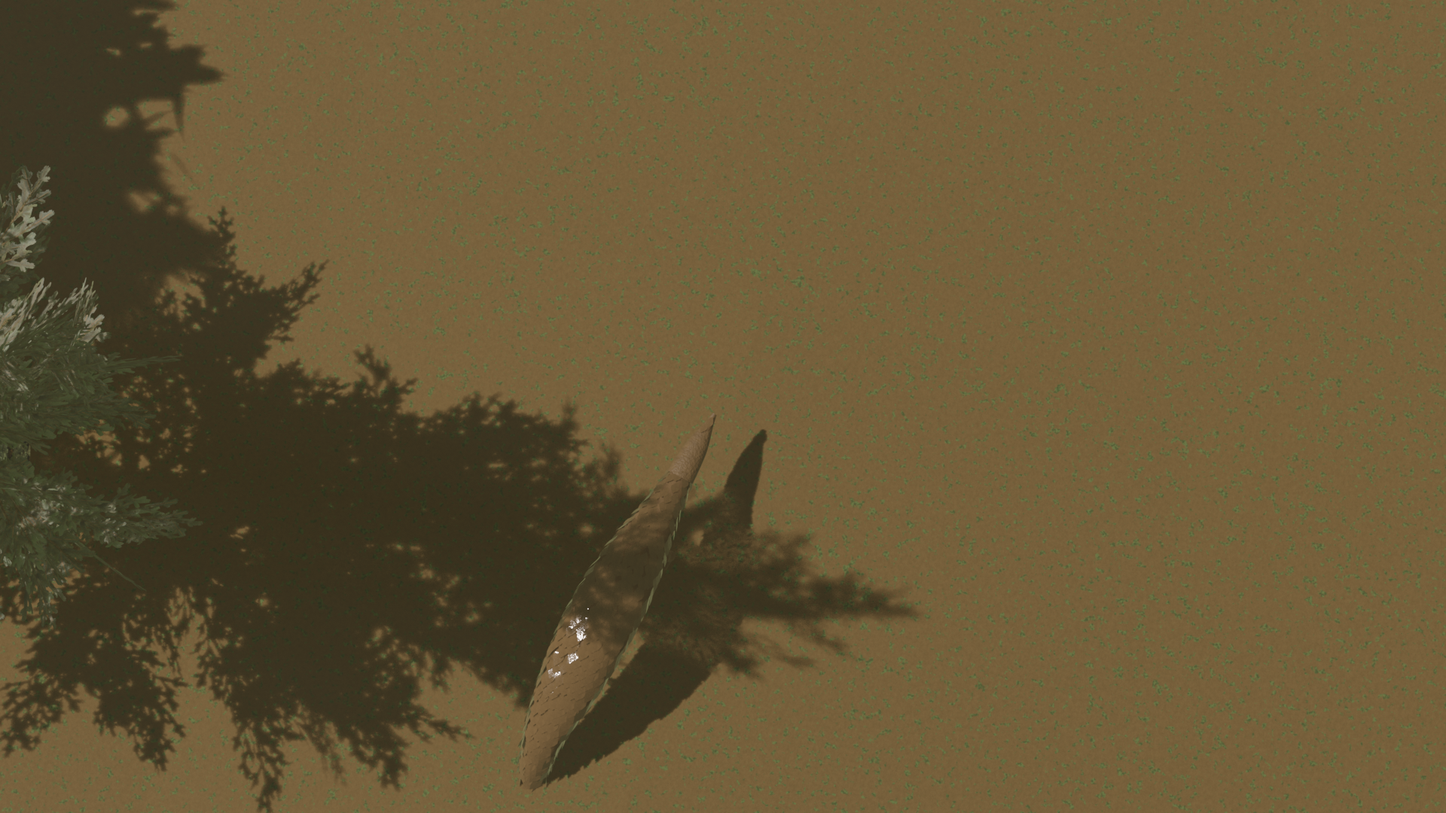pangolin: (455, 397, 740, 813)
